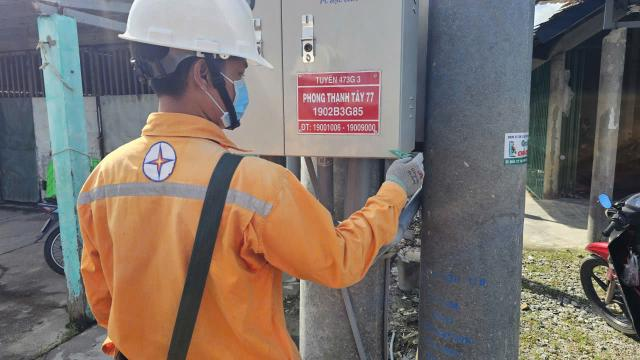gloves: (376, 148, 434, 192)
helmet: (98, 0, 294, 56)
